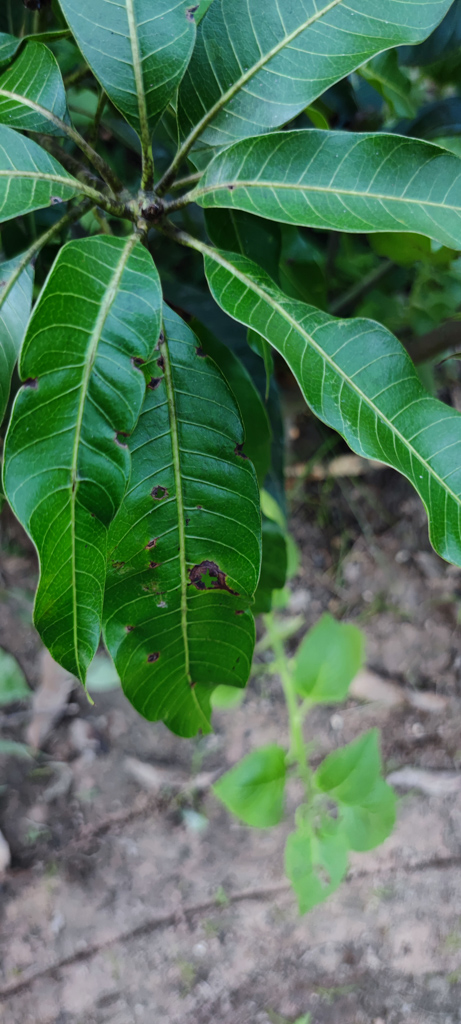Sooty mold: (59, 123, 191, 244)
